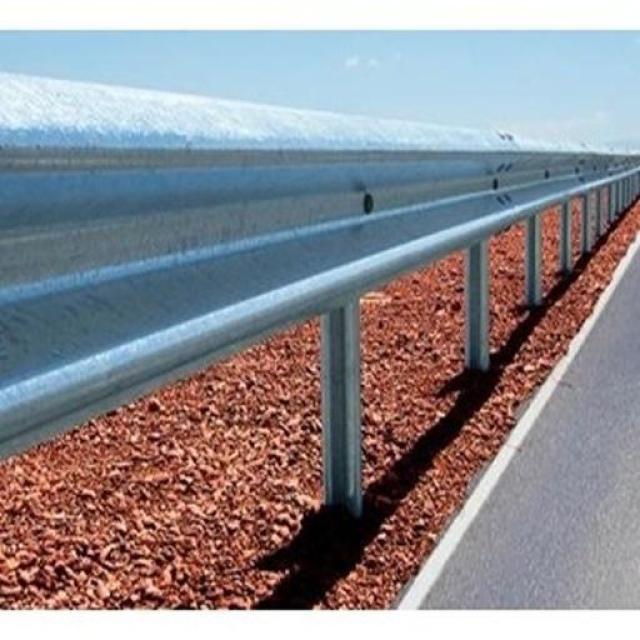Guard rail: (0, 73, 640, 617)
